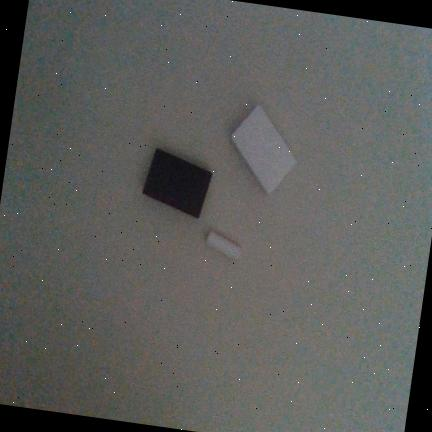Cilindro: (206, 231, 241, 260)
Paralelepipedo: (228, 104, 296, 193), (141, 147, 212, 218)
